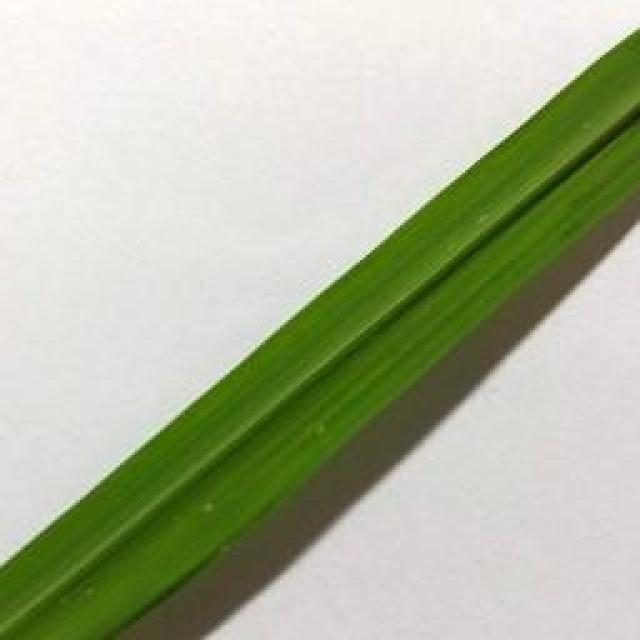Healthy-Plant: (247, 236, 411, 544), (386, 125, 541, 425), (502, 27, 640, 325), (141, 355, 286, 633), (0, 427, 145, 640)
